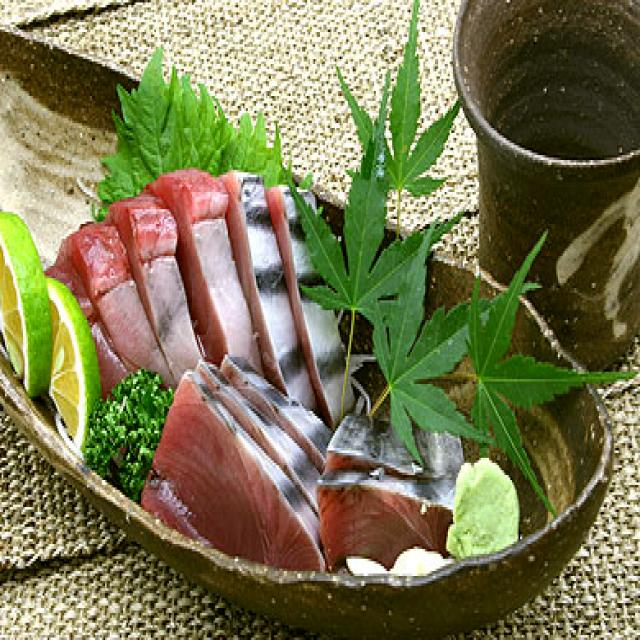刺身生食: (0, 98, 550, 628)
